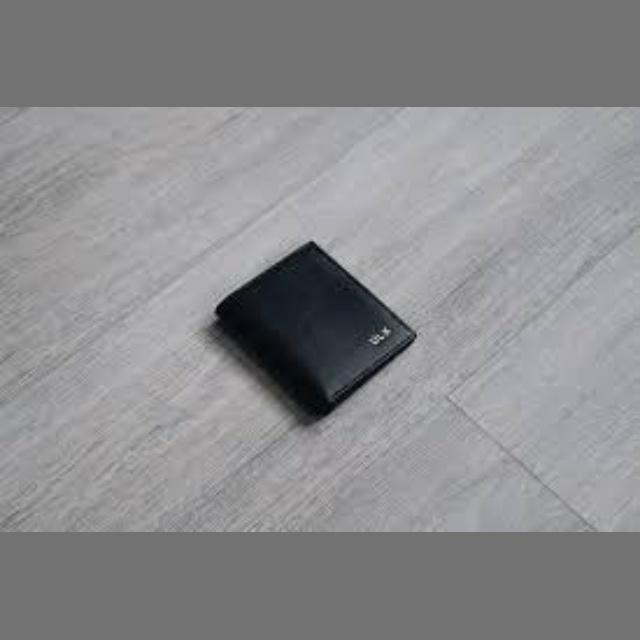Wallet: (203, 241, 417, 421)
